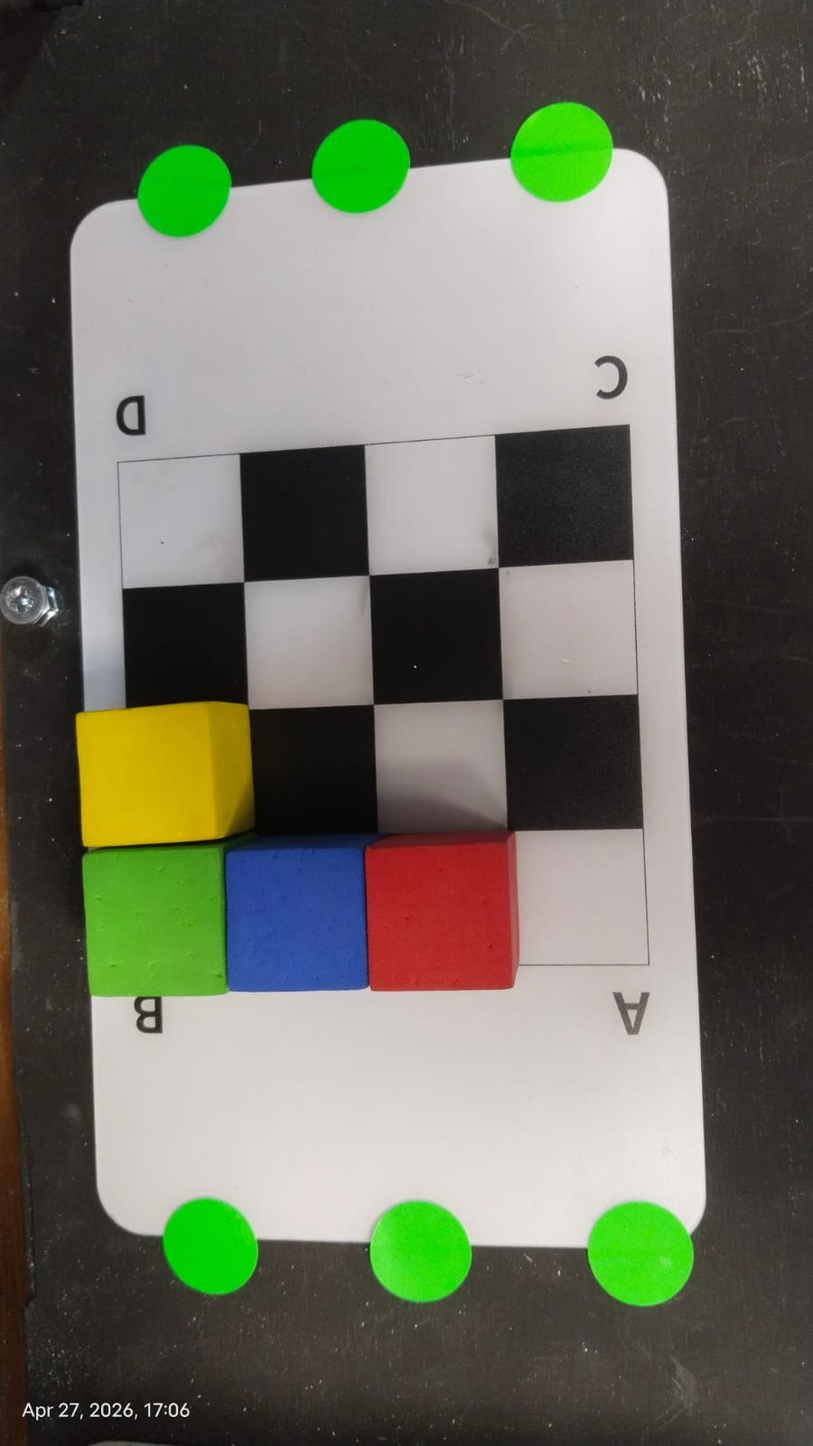blue: (225, 842, 369, 994)
green: (78, 842, 230, 1002)
red: (365, 825, 521, 993)
yellow: (65, 699, 256, 849)
